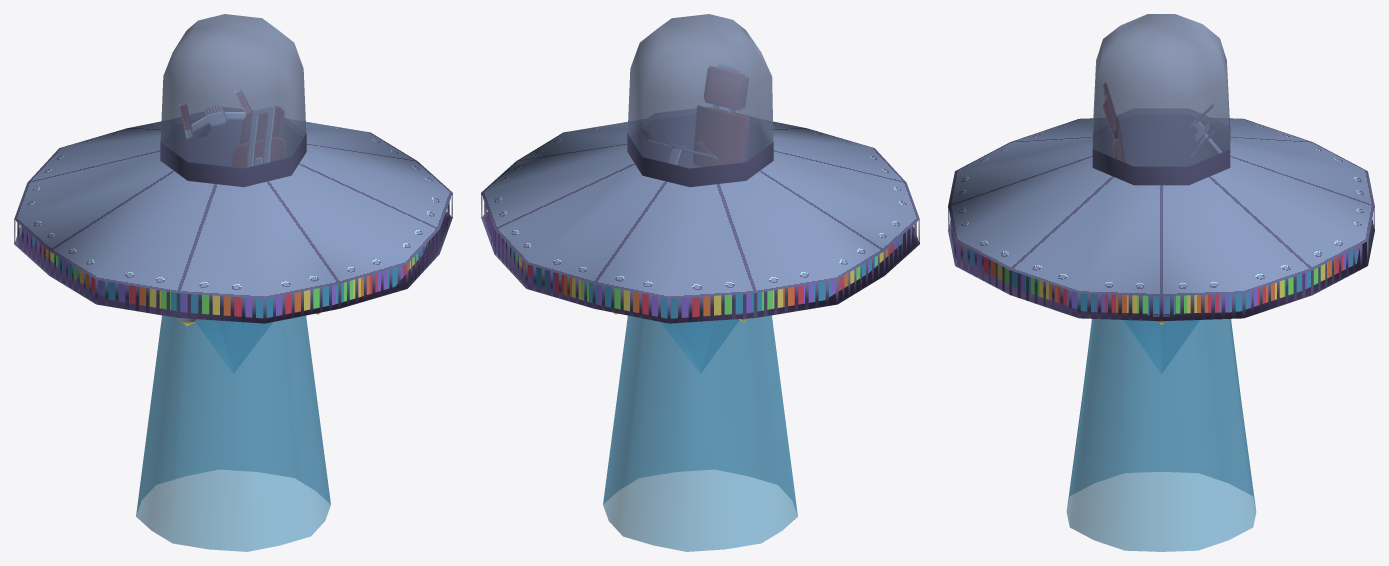
Rendered from UFO.gltf.
3 views of the same model, side by side, from view 1: azimuth 30°, elevation 25°; view 2: azimuth 150°, elevation 25°; view 3: azimuth 270°, elevation 25° (orthographic).
Parts seen in each view (by area): view 1: ufo, beam, seat, controls; view 2: ufo, beam, seat, controls; view 3: ufo, beam, seat.
Part boxes in pixels (x1,y1,x2,y2): ufo: [14, 14, 452, 323]; beam: [136, 315, 330, 551]; seat: [232, 105, 285, 168]; controls: [179, 90, 252, 138]; ufo: [481, 14, 919, 323]; beam: [603, 315, 797, 551]; seat: [689, 63, 749, 168]; controls: [640, 128, 717, 164]; ufo: [948, 14, 1374, 321]; beam: [1066, 319, 1256, 551]; seat: [1102, 83, 1124, 162].
Bounding box in the file's own units: 3.88 × 4.88 × 3.88.
3 materials, 3 textured.
